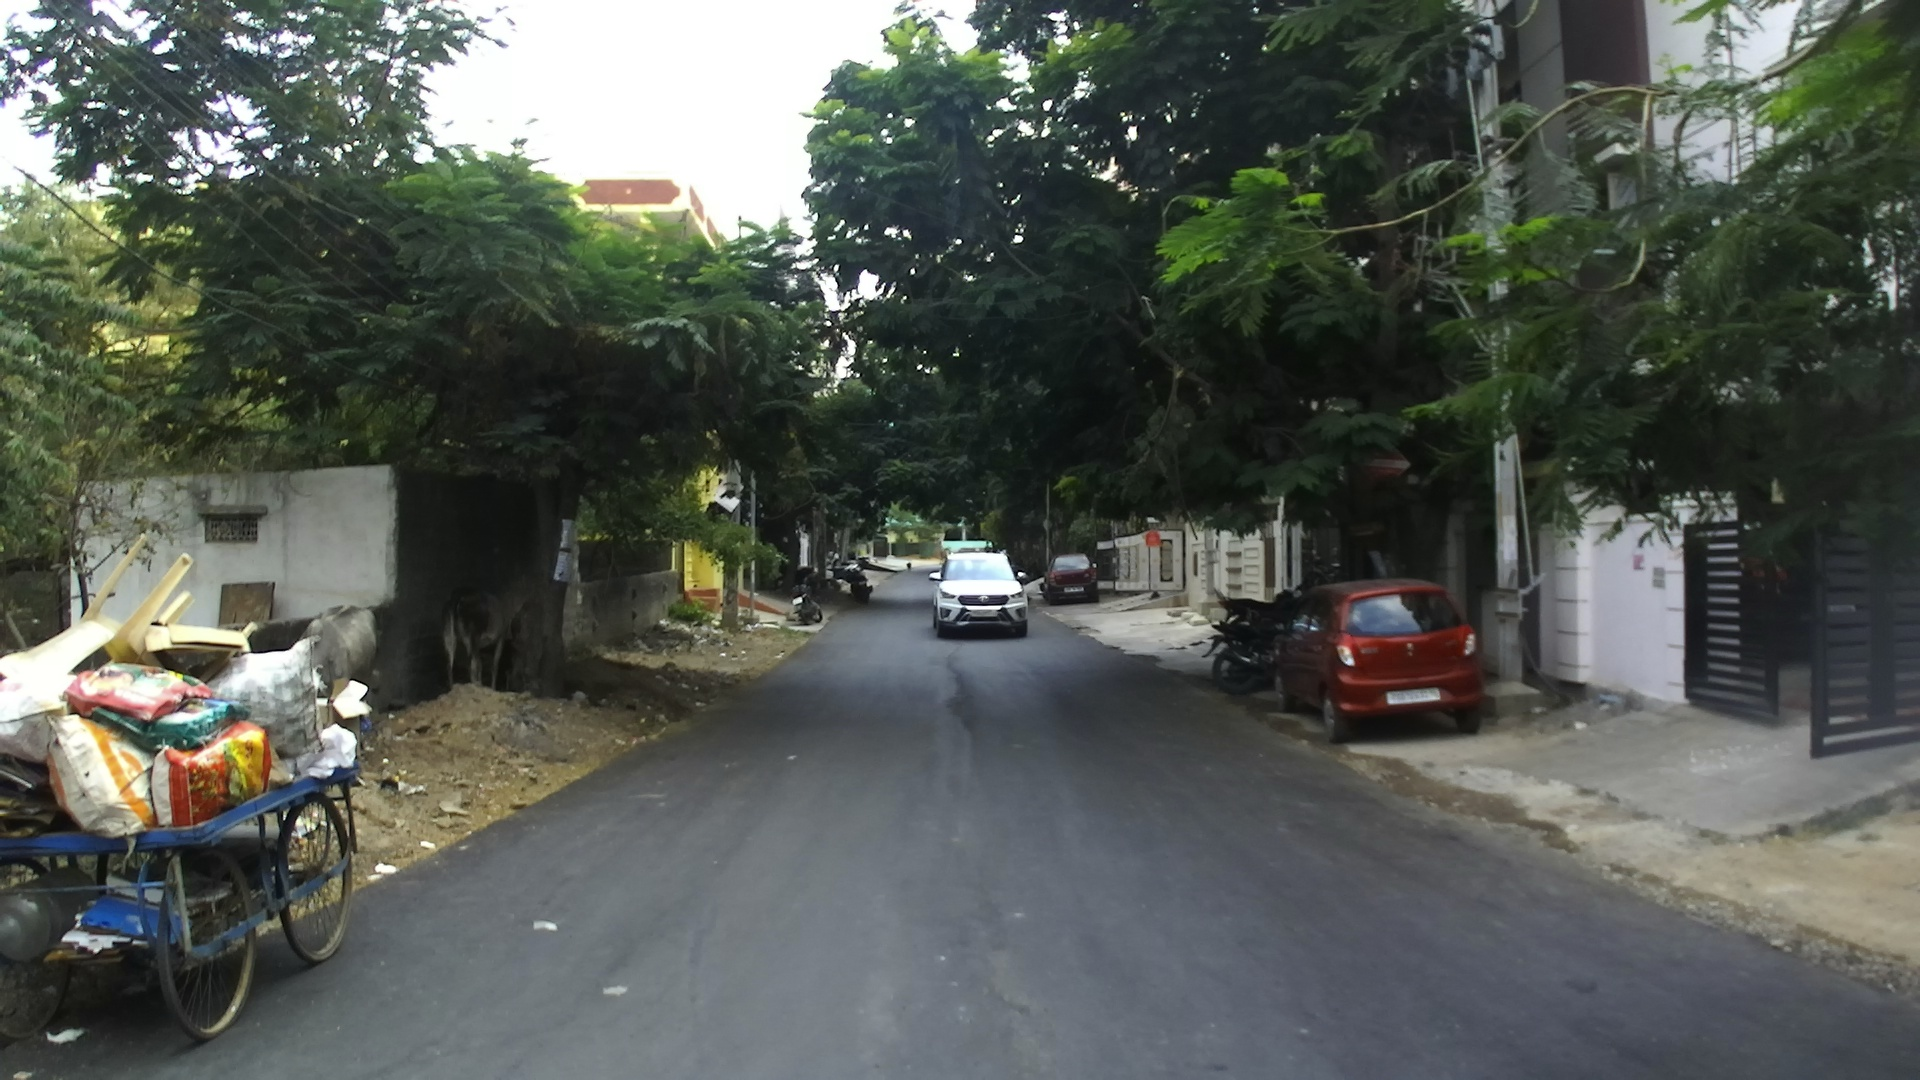vehicle: (0, 546, 378, 1047), (1270, 578, 1485, 740), (1207, 583, 1313, 688), (928, 546, 1030, 638), (928, 547, 1030, 638), (1042, 554, 1098, 603), (825, 563, 872, 600)
